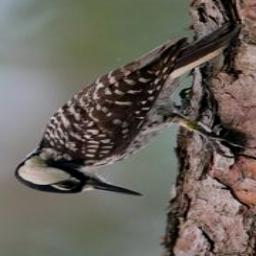Woodpecker: (13, 21, 256, 197)
